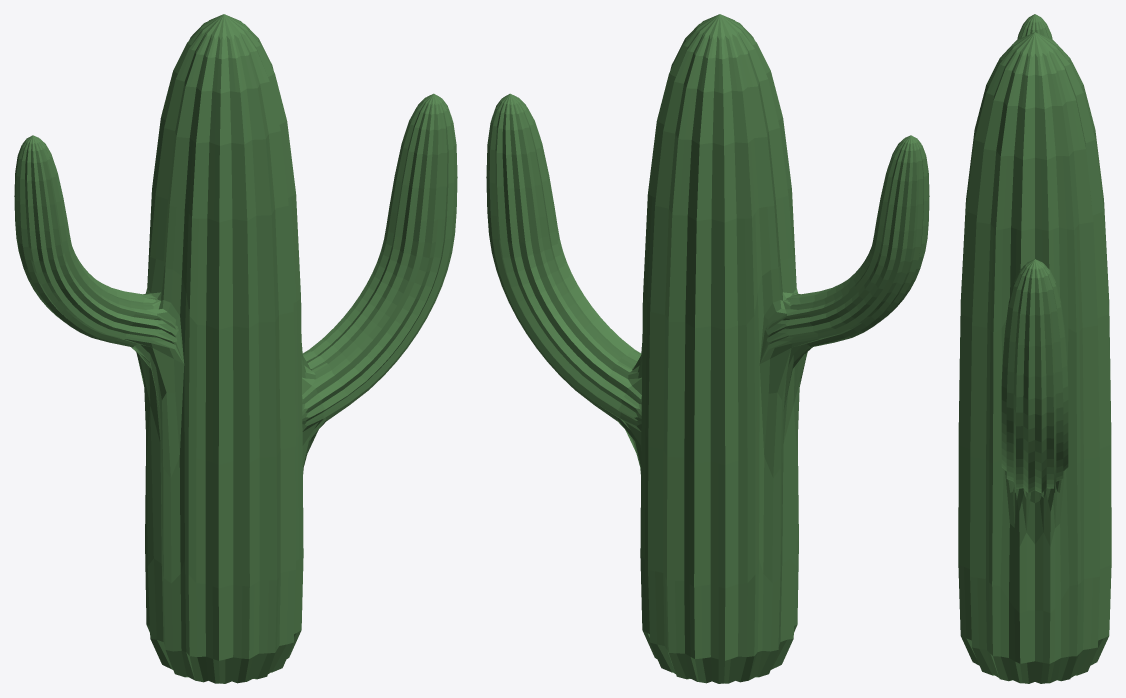
File: cactus.fbx
The picture shows the model from 3 angles, left to right: view 1: azimuth 30°, elevation 25°; view 2: azimuth 150°, elevation 25°; view 3: azimuth 270°, elevation 25°; orthographic projection. The views are drawn at different scales.
Parts seen in each view (by area): view 1: cactus; view 2: cactus; view 3: cactus.
Part boxes in pixels (<box>): cactus: <box>14,14,457,683</box>; cactus: <box>486,14,929,683</box>; cactus: <box>958,14,1111,683</box>.
Size of the model in its own units: 5.62 by 8.16 by 1.76.
